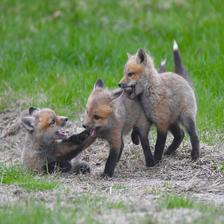fox: (118, 38, 204, 165), (78, 68, 166, 182), (20, 94, 101, 185)
